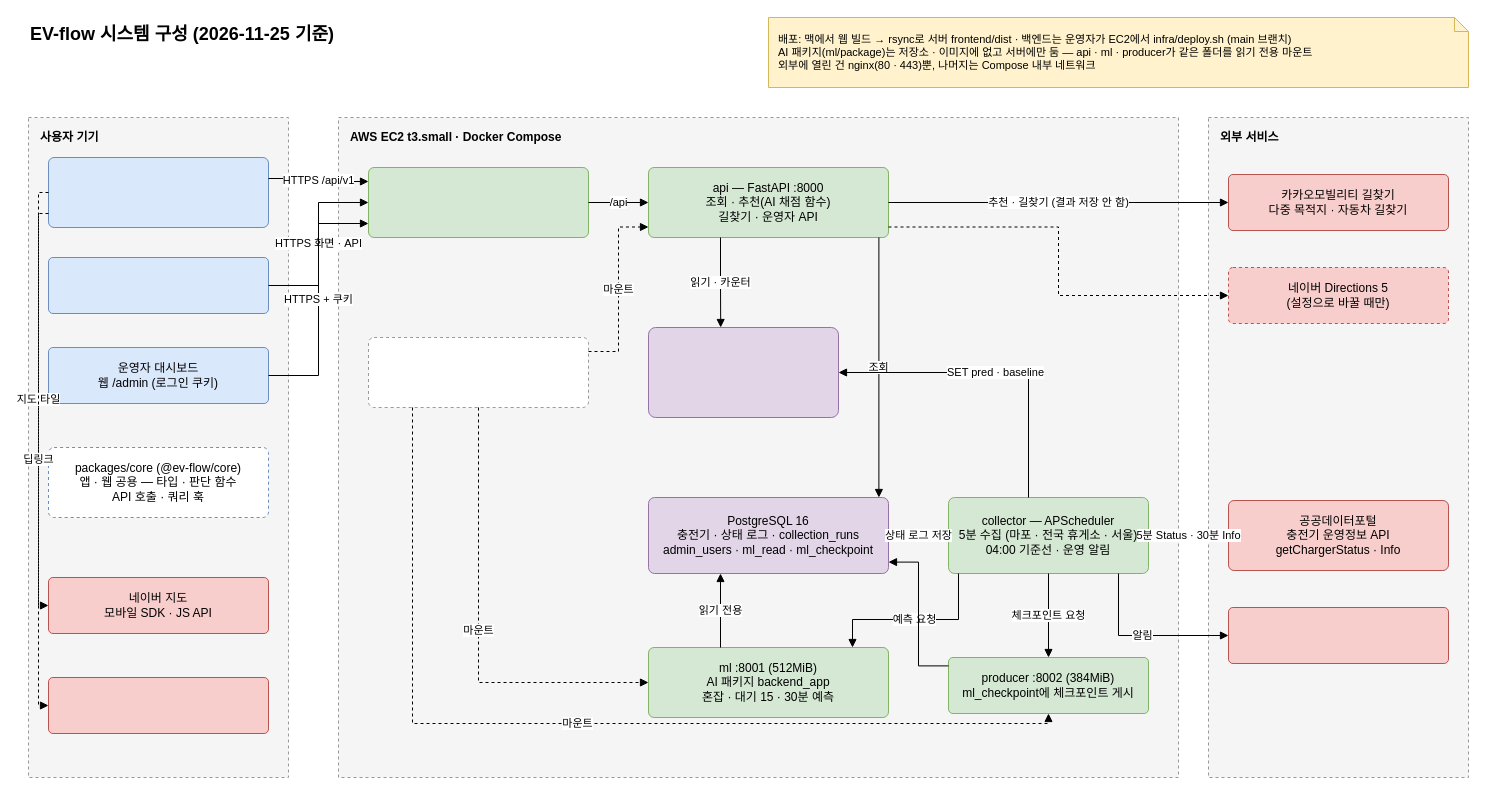
The diagram is 1486 pixels wide and 795 high, and some of its shapes have lost their labels. Here are the shapes that lost their labels. From the top down, the box of each, then its label:
(48, 156, 268, 228): iOS 앱 Expo · React Native (App Store 1.0.0) Android는 2026-11-25 시작
(368, 166, 588, 238): nginx :443 HTTPS (Let's Encrypt) /api 프록시 · 웹 정적 파일
(48, 256, 268, 314): 사용자 웹 React · Vite (evflowkr.app)
(368, 336, 588, 408): ml/package (AI 패키지) 모델 · 추론 · 채점 코드 서버에만 둠
(648, 326, 838, 418): Redis 7 pred:v2 · pred:raw:v1 · baseline:v1 길찾기 예산 · 호출 제한 로그인 잠금 · 이용률 집계
(1228, 606, 1448, 664): Discord Webhook 수집 실패 · 지연 알림
(48, 676, 268, 734): 지도 앱 (네이버 지도 · 카카오맵) 딥링크로 운전 안내
